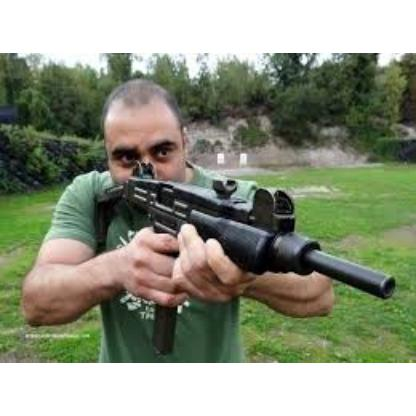gun: (89, 163, 398, 348)
